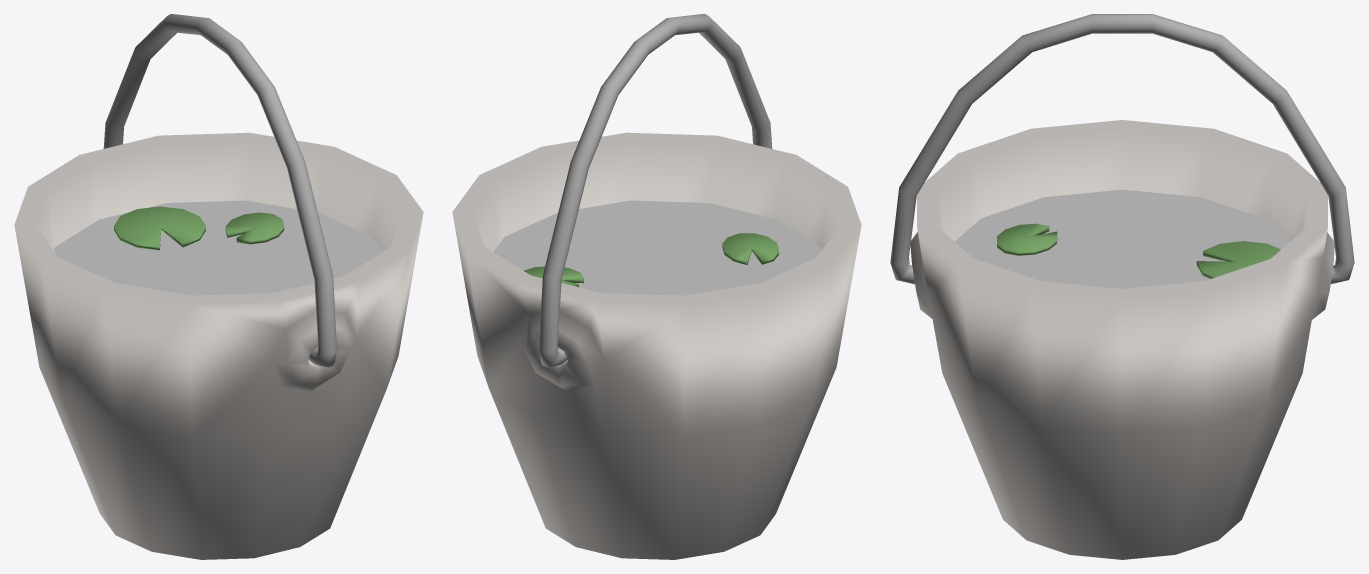
File: Balde de gosma.fbx
The picture shows the model from 3 angles, left to right: view 1: azimuth 30°, elevation 25°; view 2: azimuth 150°, elevation 25°; view 3: azimuth 270°, elevation 25°; orthographic projection. The views are drawn at different scales.
Parts seen in each view (by area): view 1: Balde_Gosma, Balde_Gosma_Outline, pCylinder8, pCylinder9, pCylinder11; view 2: Balde_Gosma, Balde_Gosma_Outline, pCylinder8, pCylinder12; view 3: Balde_Gosma, Balde_Gosma_Outline, pCylinder8, pCylinder9, pCylinder12.
Boxes of the visible parts, left/top/right/bottom form: Balde_Gosma: left=14, top=132, right=423, bottom=559; Balde_Gosma_Outline: left=54, top=200, right=382, bottom=295; pCylinder8: left=103, top=14, right=336, bottom=367; pCylinder9: left=114, top=206, right=205, bottom=250; pCylinder11: left=225, top=212, right=284, bottom=244; Balde_Gosma: left=452, top=132, right=861, bottom=559; Balde_Gosma_Outline: left=493, top=200, right=821, bottom=295; pCylinder8: left=539, top=14, right=772, bottom=367; pCylinder12: left=722, top=233, right=778, bottom=264; Balde_Gosma: left=910, top=120, right=1334, bottom=559; Balde_Gosma_Outline: left=955, top=189, right=1289, bottom=288; pCylinder8: left=890, top=14, right=1354, bottom=284; pCylinder9: left=1196, top=241, right=1280, bottom=278; pCylinder12: left=997, top=223, right=1057, bottom=255.
Size of the model in its own units: 3.44 by 4.44 by 3.79.
